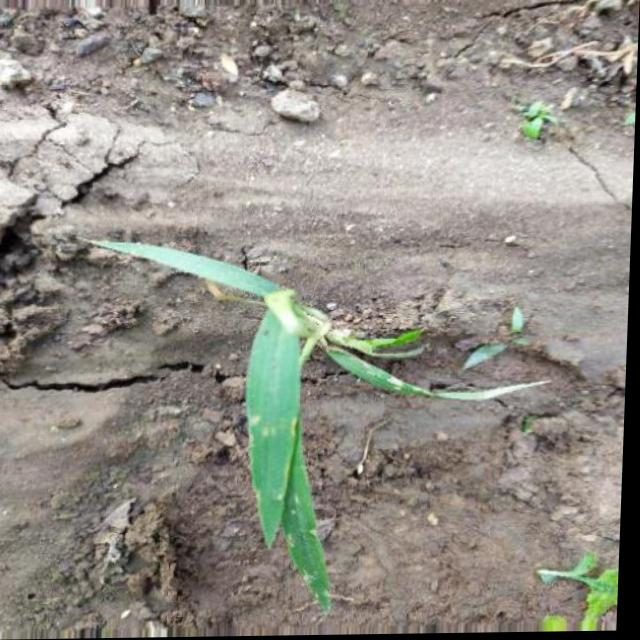weed: (59, 206, 566, 624)
